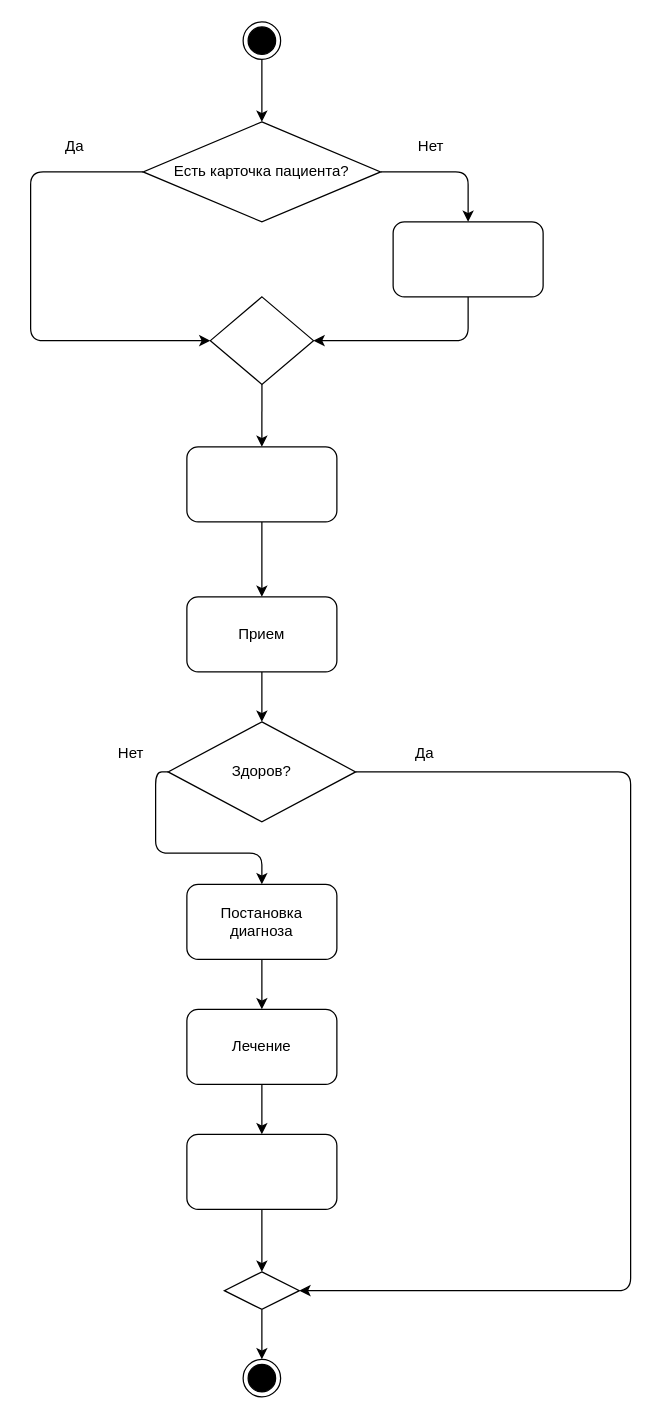
Some shapes in this 663 by 1419 pixel diagram are drawn without their labels. The shapes that lost their labels are listed below. From the top down, each one's box as (x1, y1, x2, y2) in pixels, then its label:
(392, 221, 543, 297): Регистрация
(186, 446, 337, 522): Запись на прием
(186, 1133, 337, 1209): Вылечен
